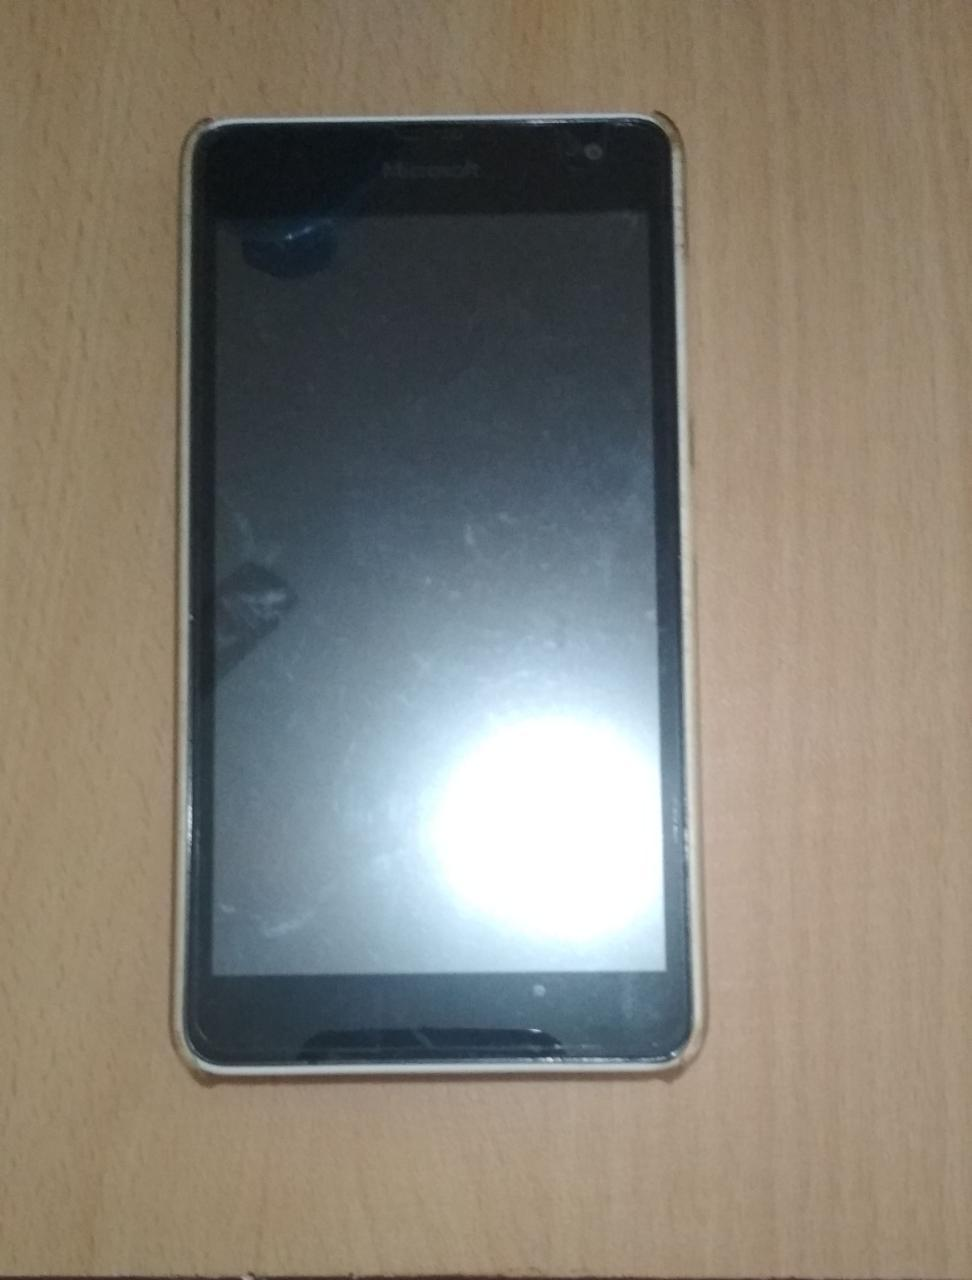Phone: (141, 70, 731, 1107)
